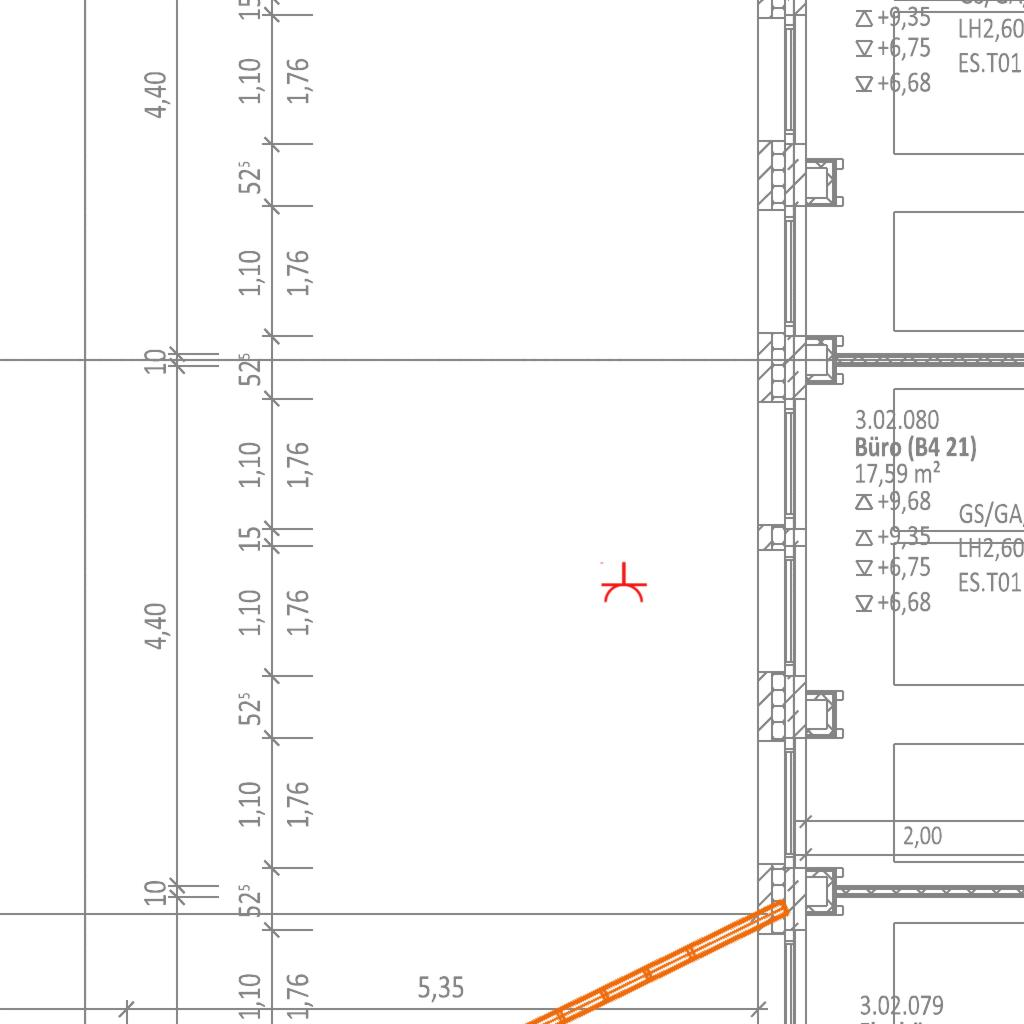Ambulanz_Pendelleuchte_LED: (437, 890, 810, 1024)
Schukosteckdose_einfach: (598, 561, 648, 604)
